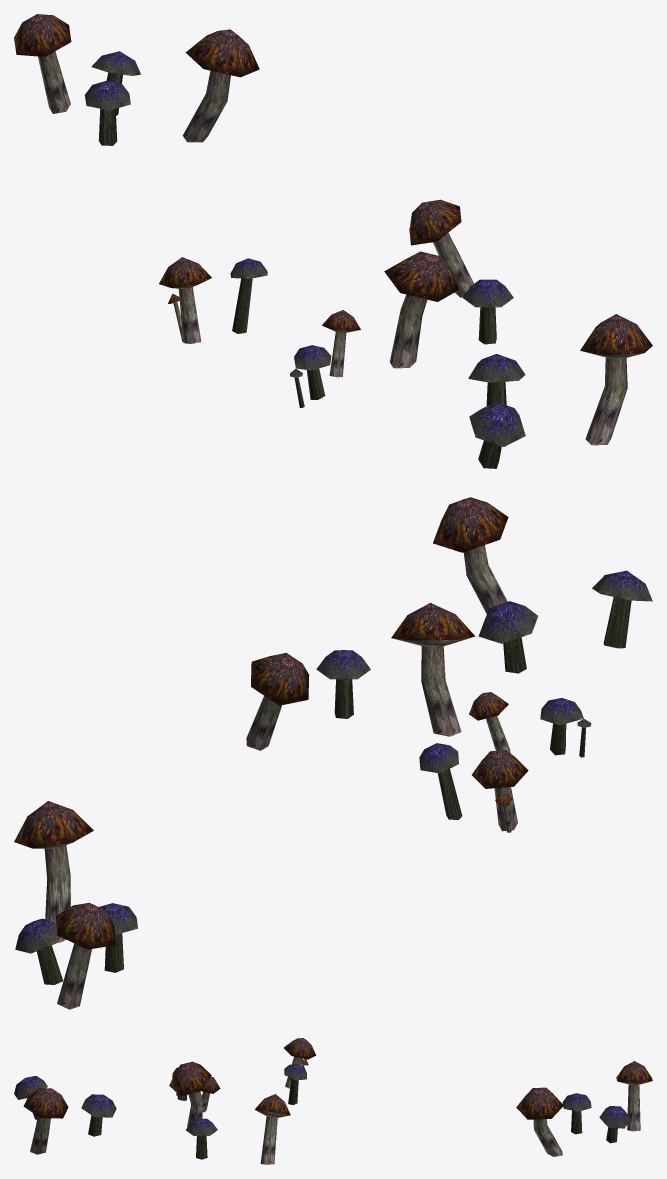
File: OW_MUSHROOM_V1.glb
The picture shows the model from 3 angles, top to bottom: view 1: azimuth 30°, elevation 25°; view 2: azimuth 150°, elevation 25°; view 3: azimuth 270°, elevation 25°; orthographic projection. The views are drawn at different scales.
Visible parts, largest first — view 1: Mesh; view 2: Mesh; view 3: Mesh.
Part boxes in pixels (left/top/right/bottom): Mesh: left=14, top=14, right=652, bottom=468; Mesh: left=14, top=497, right=652, bottom=1009; Mesh: left=14, top=1038, right=652, bottom=1164.
Bounding box in the file's own units: 2.22 × 0.8619 × 6.85.
Materials: 3 (3 with a texture image).
